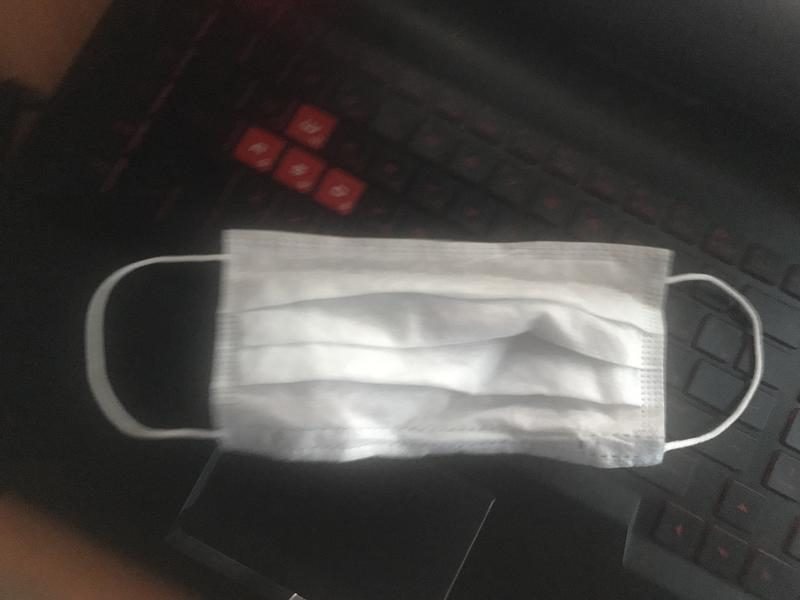medical_mask: (88, 228, 762, 466)
